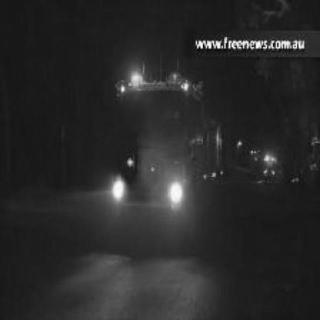other: (142, 140, 160, 184)
